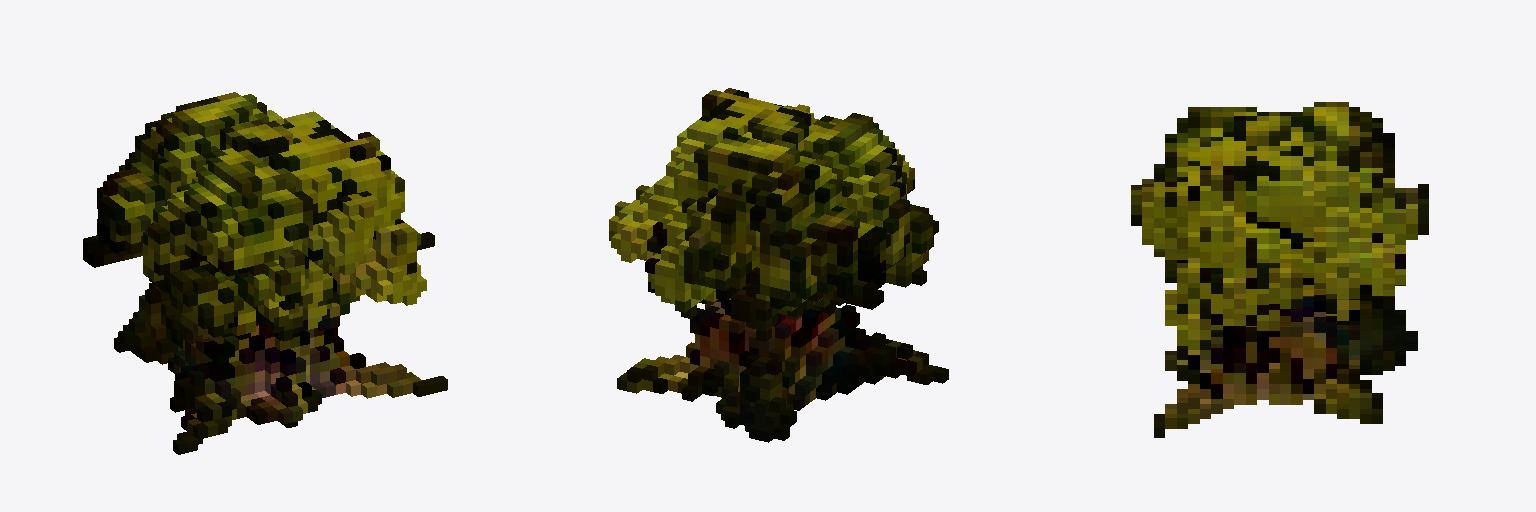
The model's file is regen_iter_75.obj.
3 views of the same model, side by side, from view 1: azimuth 30°, elevation 25°; view 2: azimuth 150°, elevation 25°; view 3: azimuth 270°, elevation 25° (orthographic).
Visible parts, largest first — view 1: regen_iter_75; view 2: regen_iter_75; view 3: regen_iter_75.
Boxes of the visible parts, x1,y1,x2,y2 form: regen_iter_75: [83, 92, 447, 454]; regen_iter_75: [609, 88, 948, 442]; regen_iter_75: [1131, 102, 1428, 437].
Size of the model in its own units: 2.8 by 2.5 by 2.6.